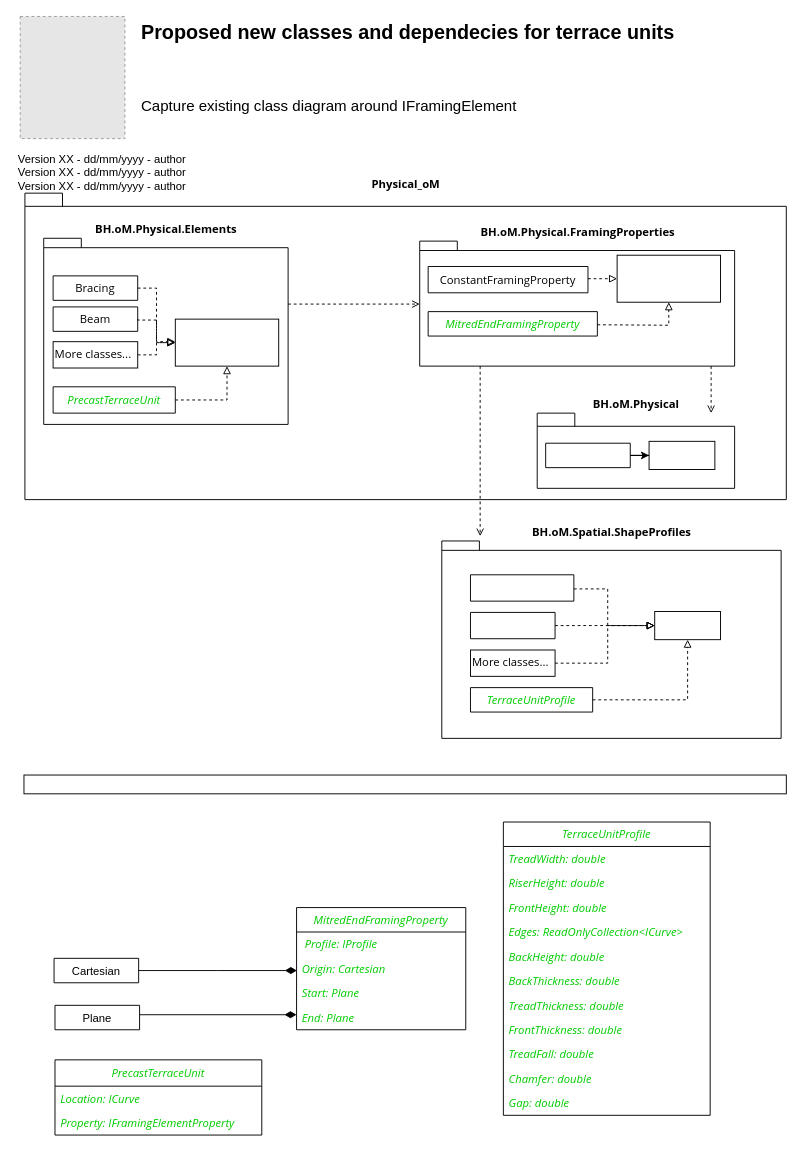
Image size: 803x1154. Some labels were removed from this diagram. Grey dashed boxes stand in for pictures. The centre of each missing label's shape, as x and y in pixels:
"BoxProfile" belongs at (512,625).
"ISectionProfile" belongs at (522,587).
"Material" belongs at (587,455).
"Proposed new Class attributes for terrace units" belongs at (404,784).
"«interface» I FramingProperties" belongs at (668,278).
"«interface» IFramingElement" belongs at (226,342).
"«interface» IPhysical" belongs at (681,455).
"«interface» IProfile" belongs at (687,625).
